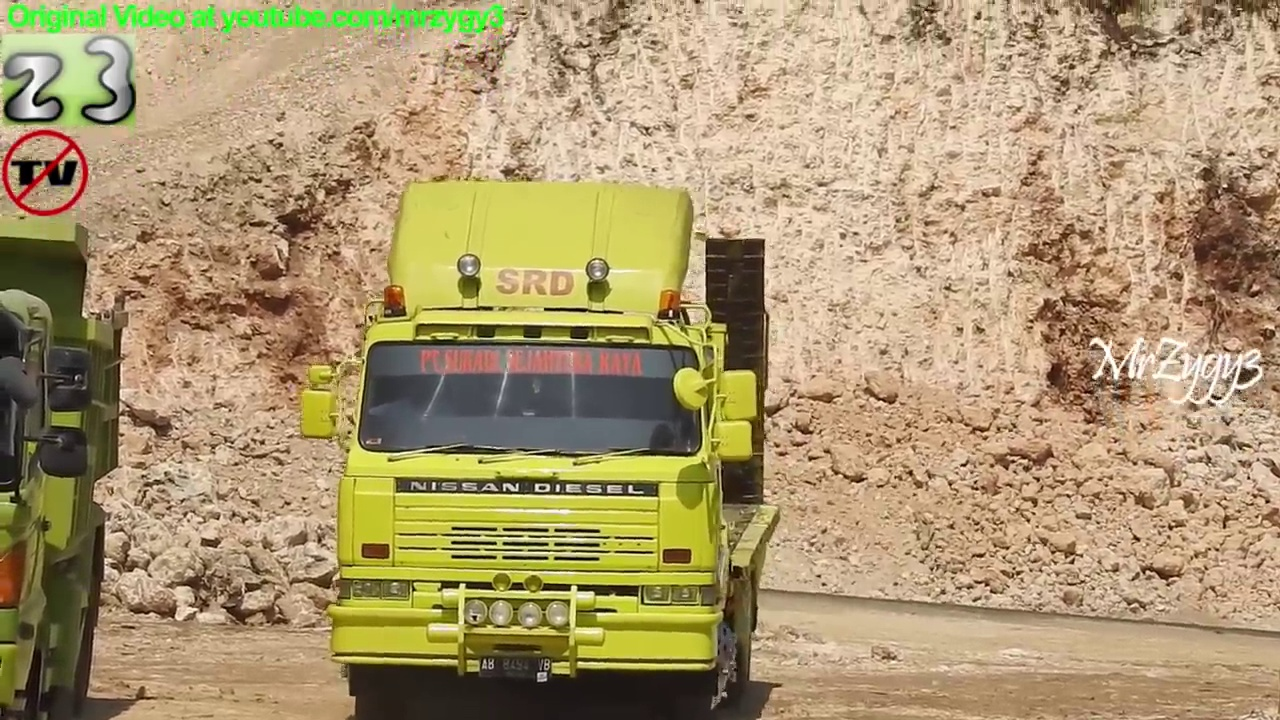truck: (296, 174, 785, 720), (1, 206, 136, 720)
